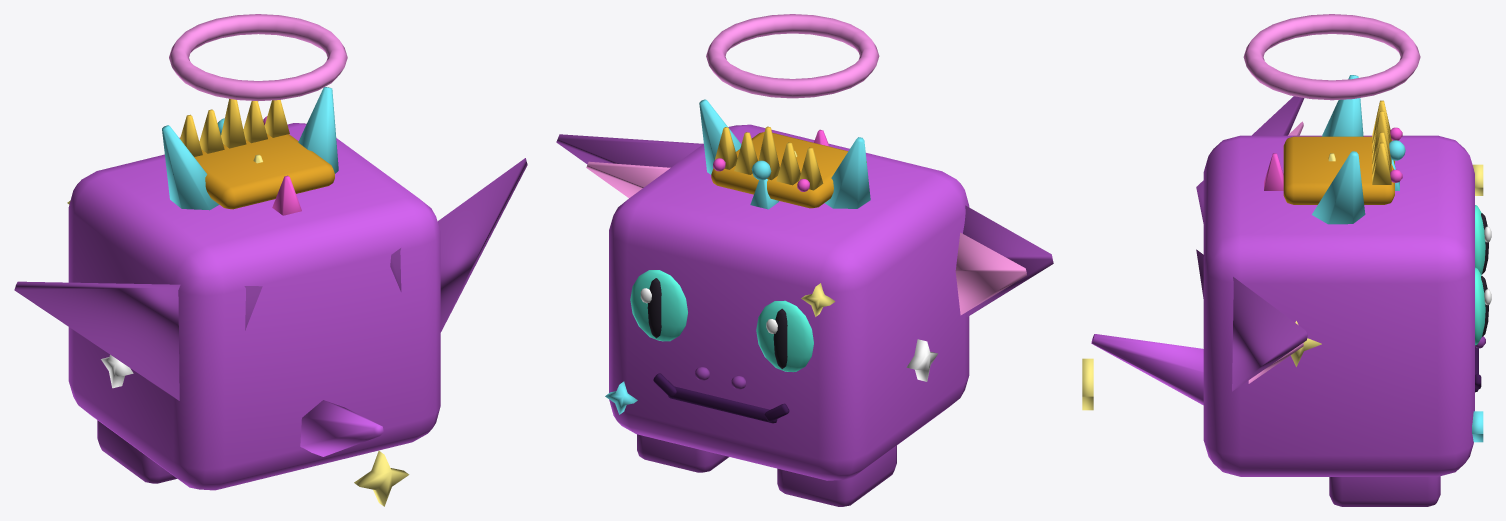
File: pet_nebuladragon.fbx
3 renders of one model, left to right at view 1: azimuth 30°, elevation 25°; view 2: azimuth 150°, elevation 25°; view 3: azimuth 270°, elevation 25°, orthographic. The views are drawn at different scales.
Visible parts, largest first — view 1: pet_nebuladragon; view 2: pet_nebuladragon; view 3: pet_nebuladragon.
Part boxes in pixels (box(x1,y1,x2,y2)): pet_nebuladragon: box(14, 14, 527, 506); pet_nebuladragon: box(556, 14, 1053, 506); pet_nebuladragon: box(1082, 14, 1491, 506).
Bounding box in the file's own units: 4.11 × 3.16 × 2.87.
Materials: 1 (1 with a texture image).
